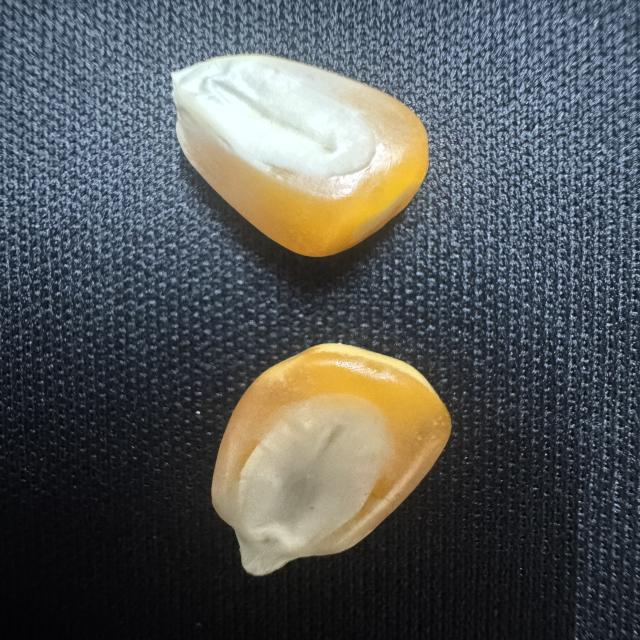Good-Seed: (191, 338, 461, 584), (167, 50, 441, 264)
